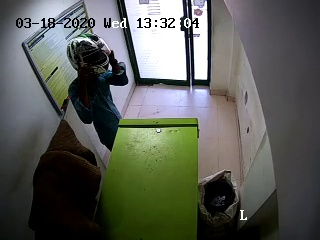helmet: (64, 33, 115, 77)
